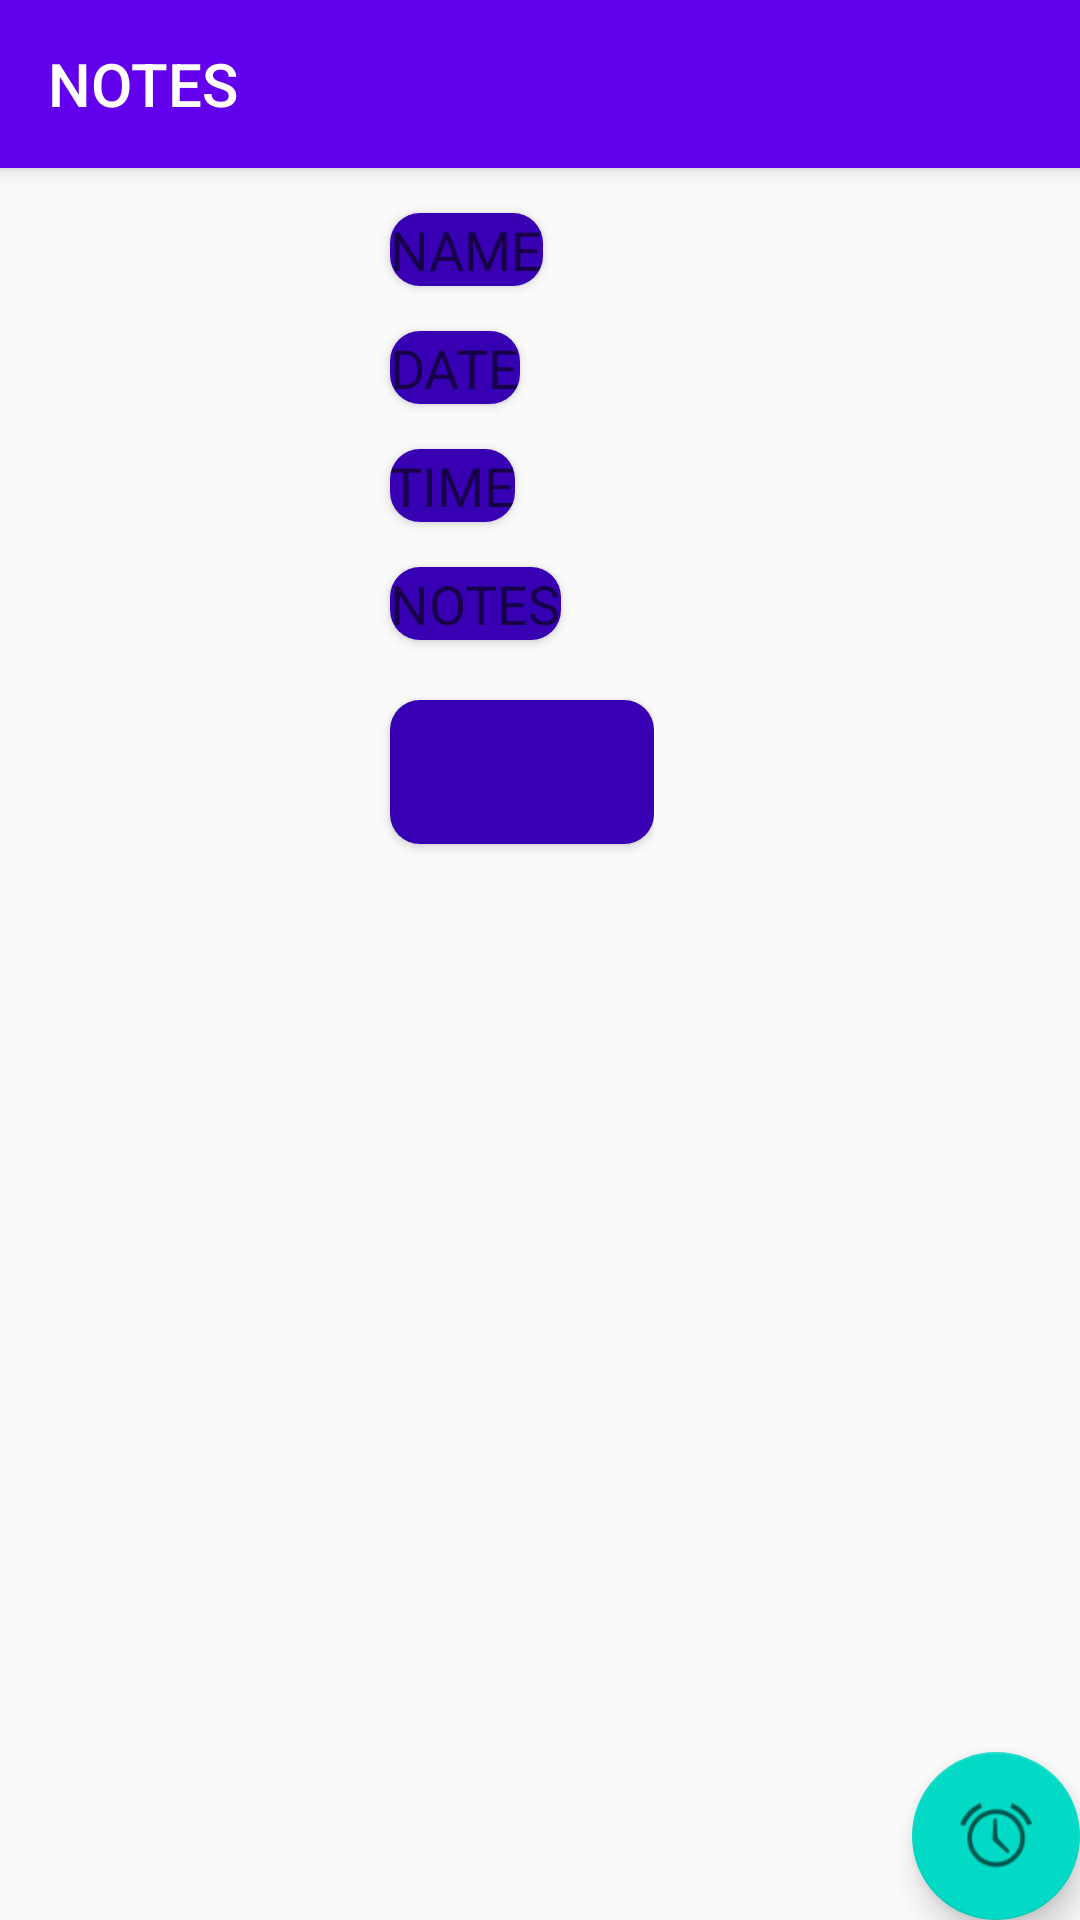

Where to tap for icons on this 1080 × 1920 app screen, as (x,y):
lock idle alarm: (996,1836)
